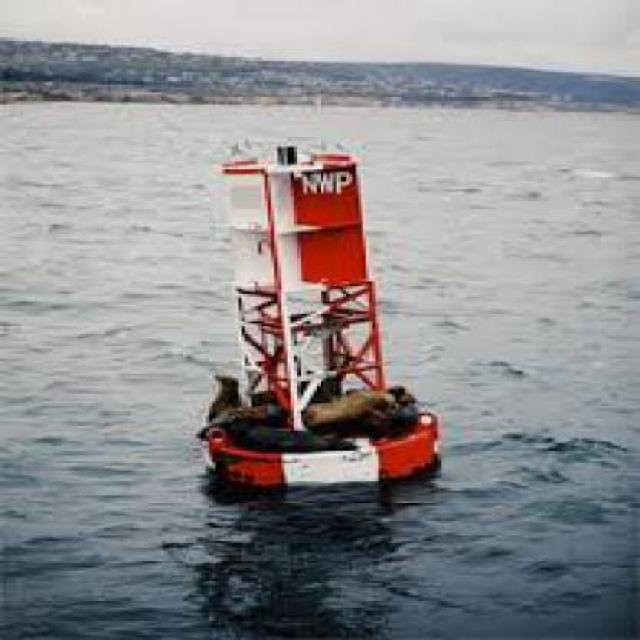buoy: (184, 133, 452, 490)
